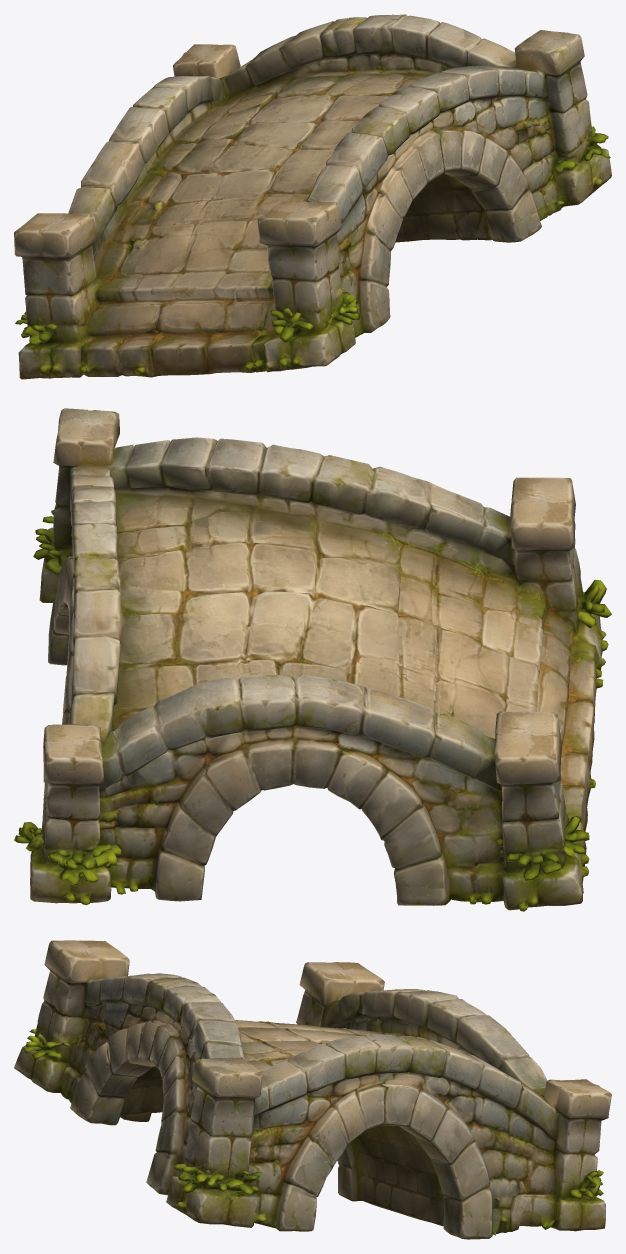
The model's file is stone_arch_bridge.glb.
3 renders of one model, top to bottom at view 1: azimuth 30°, elevation 25°; view 2: azimuth 150°, elevation 25°; view 3: azimuth 270°, elevation 25°, orthographic. The views are drawn at different scales.
Parts seen in each view (by area): view 1: tripo_node_9c910ff1-892c-4114-9ca6-745b0a74465a; view 2: tripo_node_9c910ff1-892c-4114-9ca6-745b0a74465a; view 3: tripo_node_9c910ff1-892c-4114-9ca6-745b0a74465a.
Boxes of the visible parts, x1,y1,x2,y2 form: tripo_node_9c910ff1-892c-4114-9ca6-745b0a74465a: [14, 14, 611, 379]; tripo_node_9c910ff1-892c-4114-9ca6-745b0a74465a: [14, 408, 611, 911]; tripo_node_9c910ff1-892c-4114-9ca6-745b0a74465a: [14, 940, 611, 1239].
Size of the model in its own units: 0.9775 by 0.4763 by 0.9775.
1 material, 1 textured.
